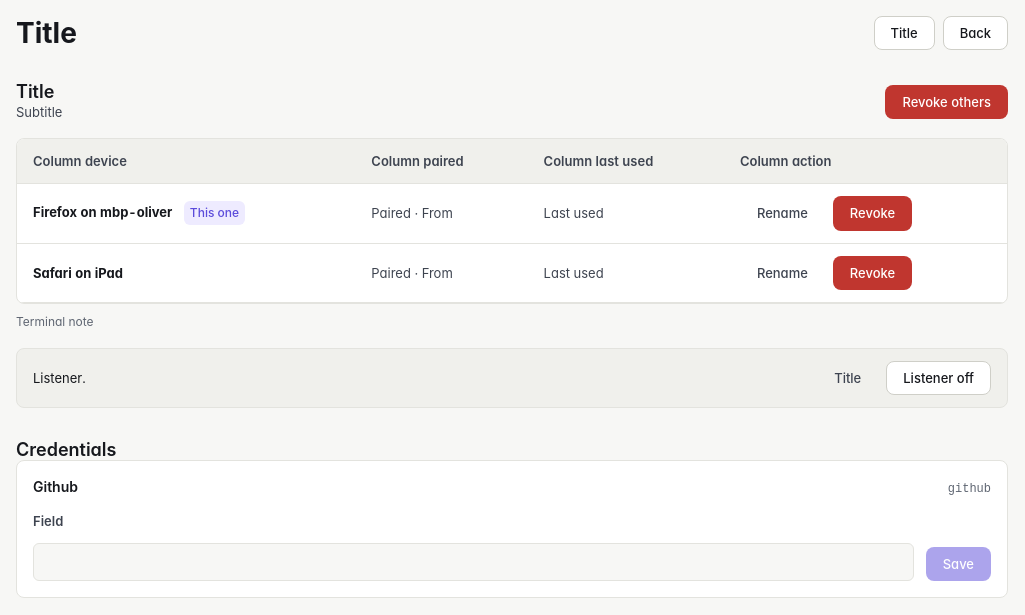
SettingsView component › allows renaming a device inline and saves the new label
Click the button with test id "rename-btn-dev-2".
click(782, 273)  # box x1=740 y1=256 x2=825 y2=290
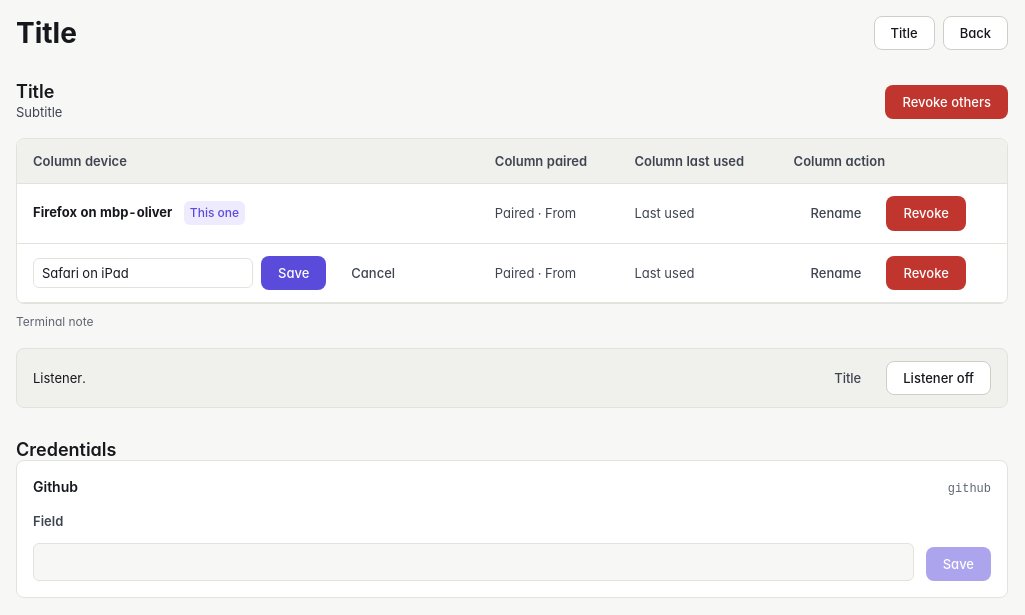
Expected: the field with test id "rename-input-dev-2" is shown
Replace the text in the field with test id "rename-input-dev-2" with "iPad Oliver" at (143, 273), box x1=33 y1=258 x2=253 y2=288
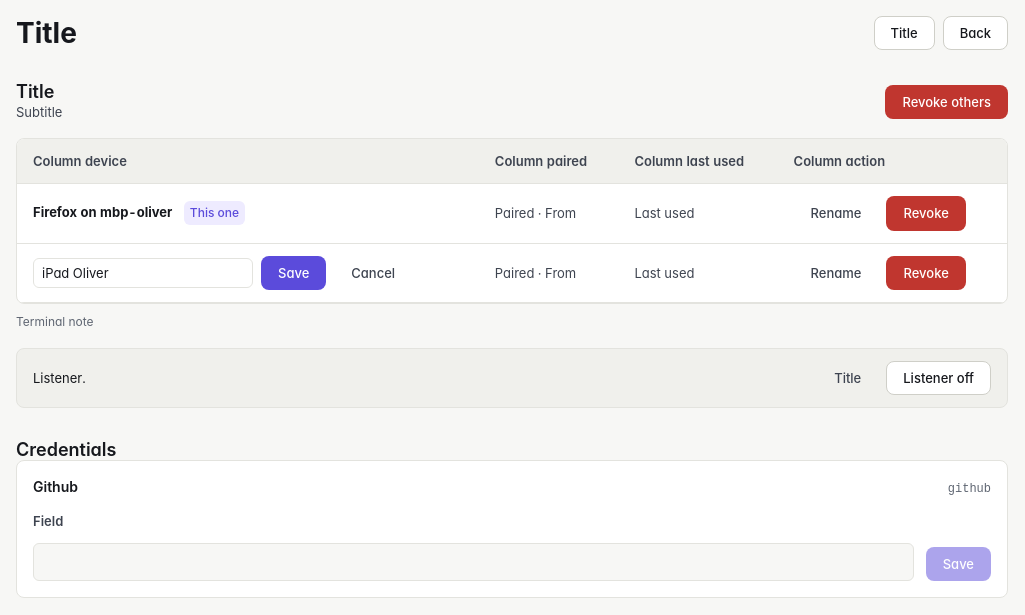
Click the button with test id "save-rename-dev-2".
click(294, 273)  # box x1=261 y1=256 x2=326 y2=290
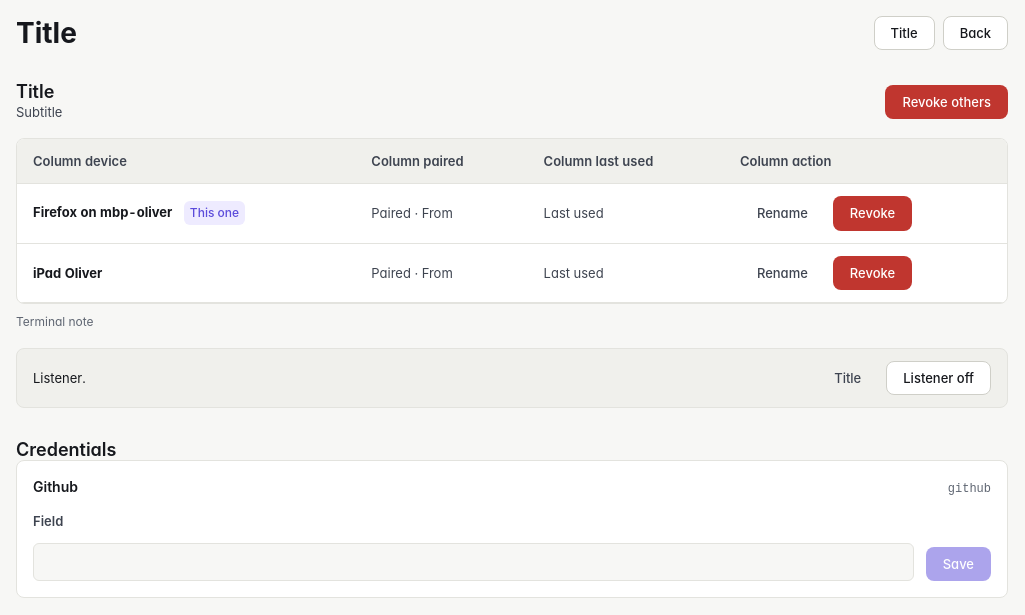
Expected: the text "iPad Oliver" is shown, x1=33 y1=265 x2=102 y2=281
